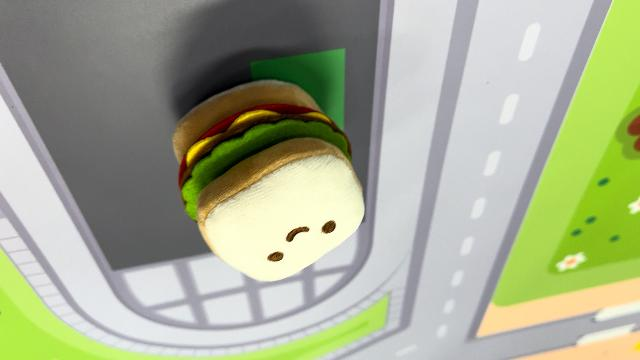sandwich: (168, 77, 368, 284)
